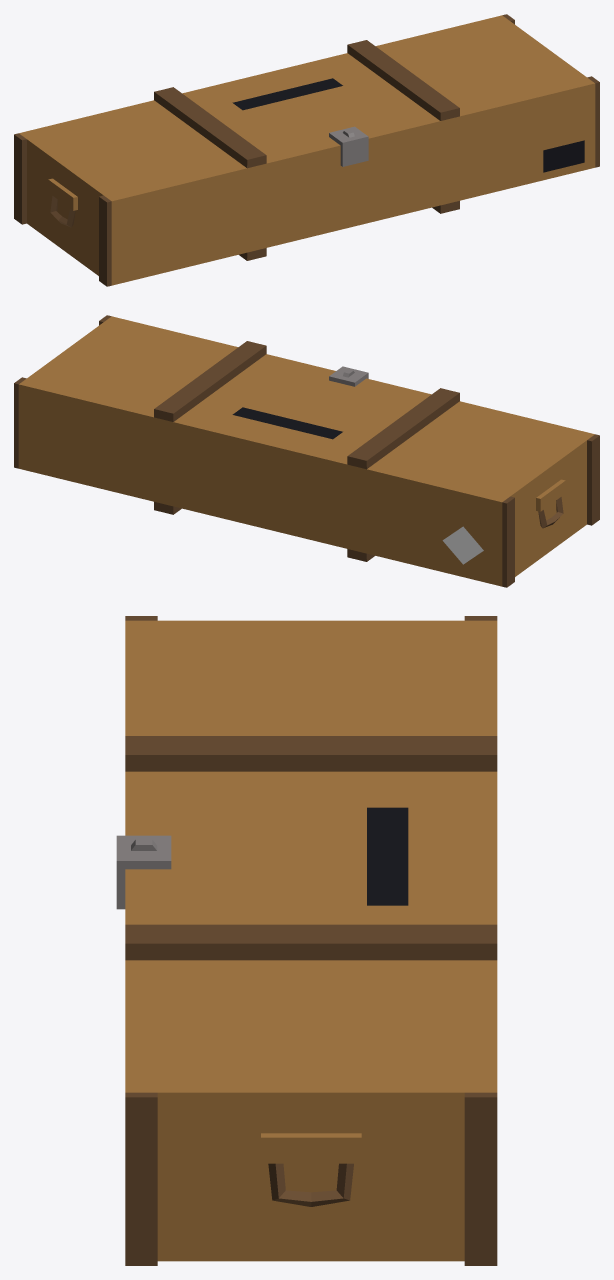
The model's file is weapons-crate-army-b.glb.
The picture shows the model from 3 angles, top to bottom: view 1: azimuth 30°, elevation 25°; view 2: azimuth 150°, elevation 25°; view 3: azimuth 270°, elevation 25°; orthographic projection. The views are drawn at different scales.
Visible parts, largest first — view 1: crate-army-b; view 2: crate-army-b; view 3: crate-army-b.
Part boxes in pixels (bbox=[...]): crate-army-b: bbox=[14, 14, 599, 286]; crate-army-b: bbox=[14, 315, 599, 587]; crate-army-b: bbox=[116, 616, 497, 1265].
Size of the model in its own units: 1.23 by 0.24 by 0.4091.
